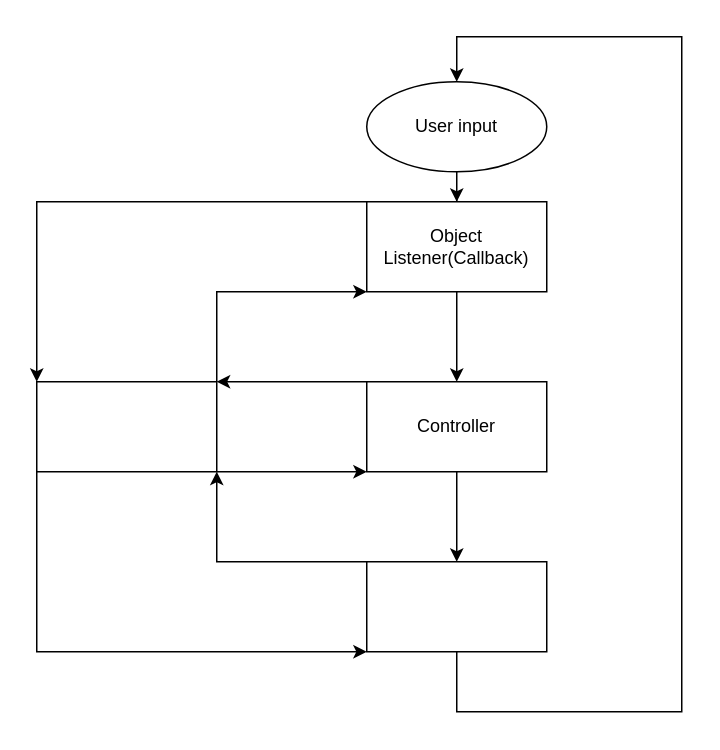
This 720x750 diagram has some shape labels left out. The box of each missing label's shape, as (x1, y1, x2, y2) in pixels:
Model: (35, 380, 217, 472)
View: (365, 560, 547, 652)
